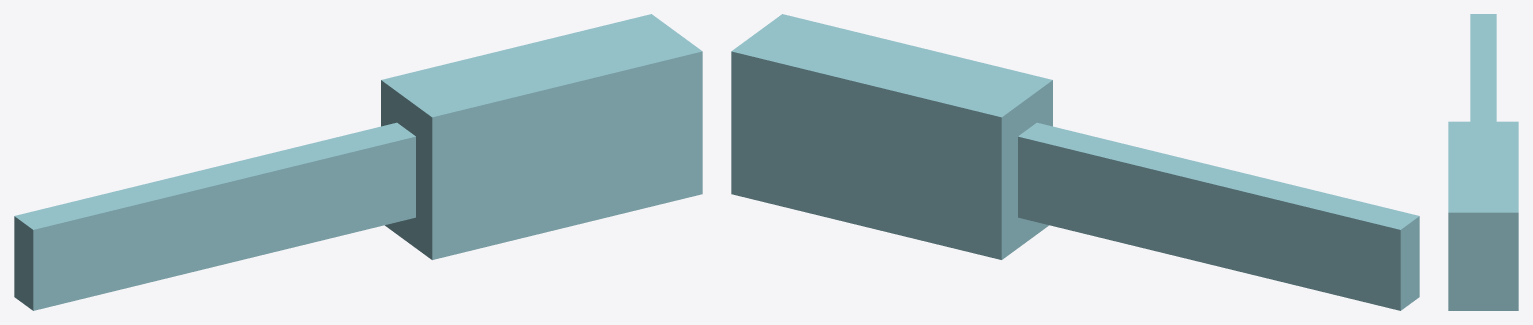
Rendered from cuboid_brush_v10010.obj.
3 renders of one model, left to right at view 1: azimuth 30°, elevation 25°; view 2: azimuth 150°, elevation 25°; view 3: azimuth 270°, elevation 25°, orthographic. The views are drawn at different scales.
Size of the model in its own units: 0.2799 by 0.0584 by 0.0379.
1 material, 1 textured.
